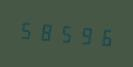eight: (37, 17, 55, 45)
five: (18, 15, 36, 44), (56, 19, 74, 47)
nine: (75, 20, 93, 49)
six: (94, 22, 112, 50)
